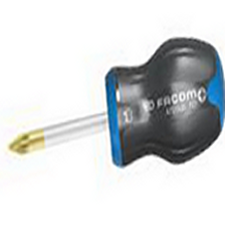Screwdriver: (8, 31, 225, 175)
